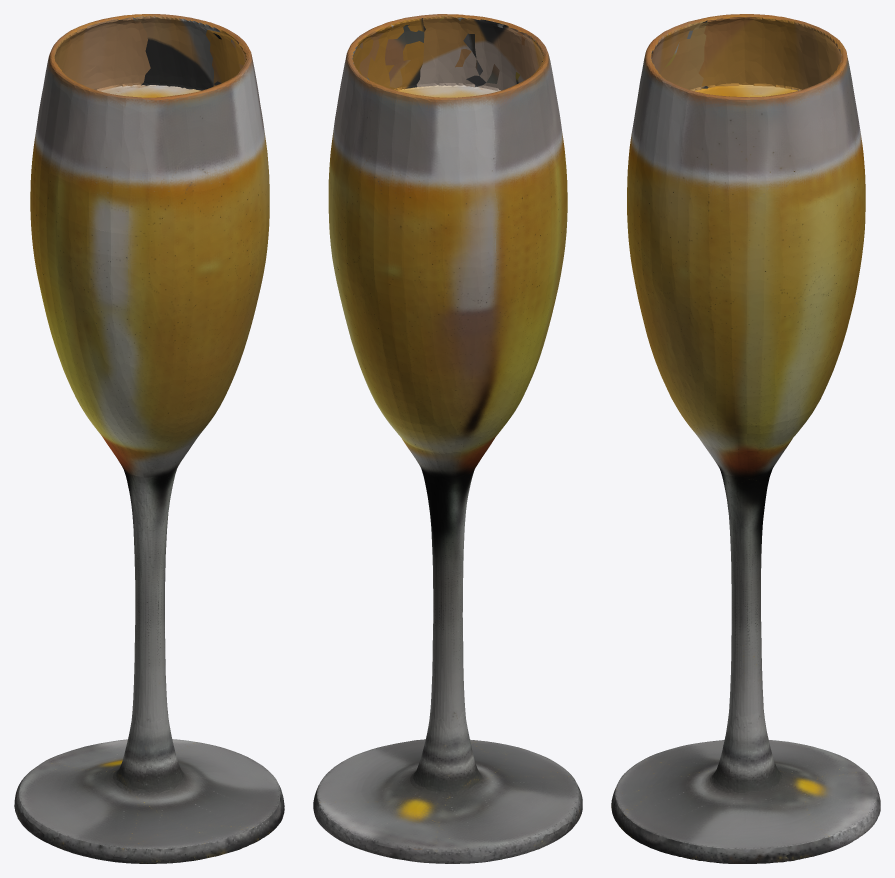
File: champagne flute.glb
The picture shows the model from 3 angles, left to right: view 1: azimuth 30°, elevation 25°; view 2: azimuth 150°, elevation 25°; view 3: azimuth 270°, elevation 25°; orthographic projection.
Parts seen in each view (by area): view 1: world; view 2: world; view 3: world.
Part boxes in pixels (<box>): world: <box>14,14,284,863</box>; world: <box>313,14,582,863</box>; world: <box>611,14,880,863</box>.
Bounding box in the file's own units: 0.3252 × 1 × 0.325.
1 material, 1 textured.
